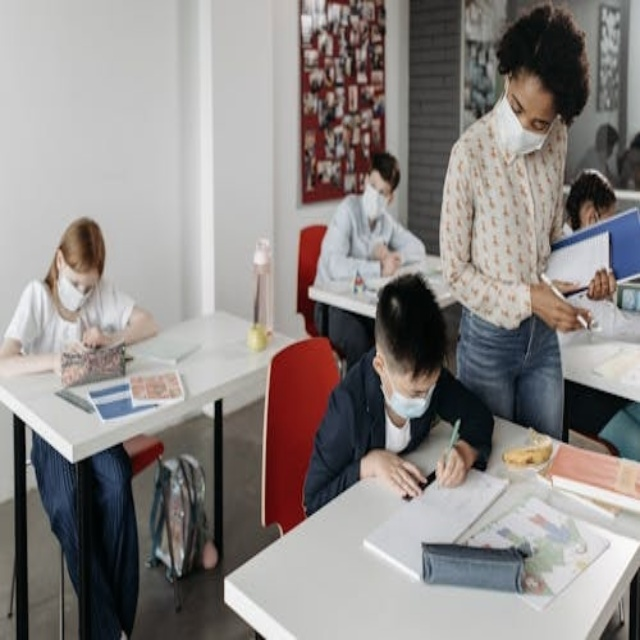Mascara: (495, 82, 553, 157), (380, 358, 436, 419), (56, 257, 95, 313), (361, 181, 387, 222)
Sin_gafas: (507, 90, 549, 138)
Sin_guantes: (533, 280, 589, 334), (374, 443, 425, 502), (434, 440, 469, 489), (586, 267, 617, 301)
